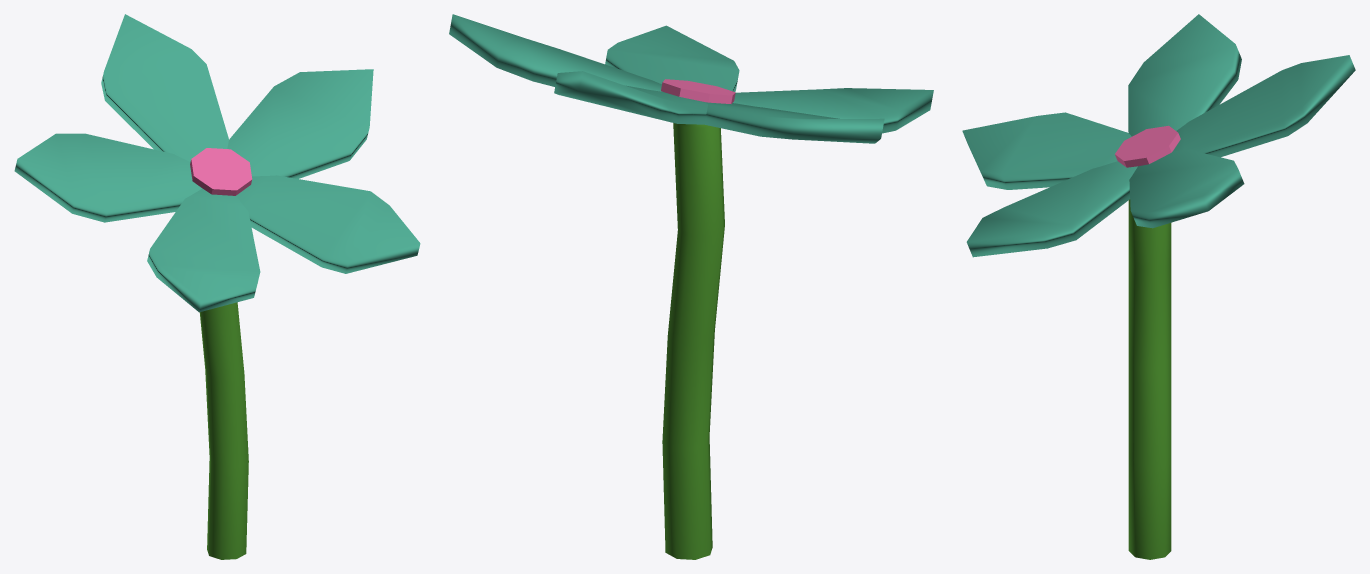
File: Flower_Turquoise_4.fbx
3 views of the same model, side by side, from view 1: azimuth 30°, elevation 25°; view 2: azimuth 150°, elevation 25°; view 3: azimuth 270°, elevation 25° (orthographic). The views are drawn at different scales.
Parts seen in each view (by area): view 1: Cube.136, Cylinder.641, Cylinder.639; view 2: Cube.136, Cylinder.641, Cylinder.639; view 3: Cube.136, Cylinder.641, Cylinder.639.
Boxes of the visible parts, x1=… form: Cube.136: x1=14, y1=14, x2=420, y2=312; Cylinder.641: x1=199, y1=302, x2=248, y2=559; Cylinder.639: x1=190, y1=148, x2=252, y2=195; Cube.136: x1=449, y1=14, x2=933, y2=143; Cylinder.641: x1=662, y1=123, x2=724, y2=559; Cylinder.639: x1=661, y1=79, x2=735, y2=103; Cube.136: x1=962, y1=14, x2=1355, y2=257; Cylinder.641: x1=1128, y1=199, x2=1171, y2=559; Cylinder.639: x1=1115, y1=125, x2=1180, y2=167.
Bounding box in the file's own units: 71.56 × 89.76 × 64.99.
